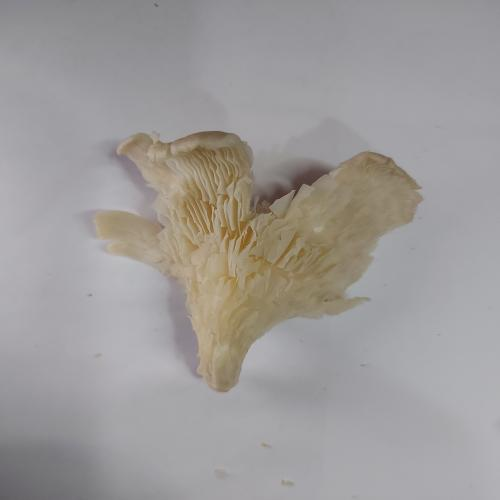Oyster Mushroom: (92, 129, 424, 392)
